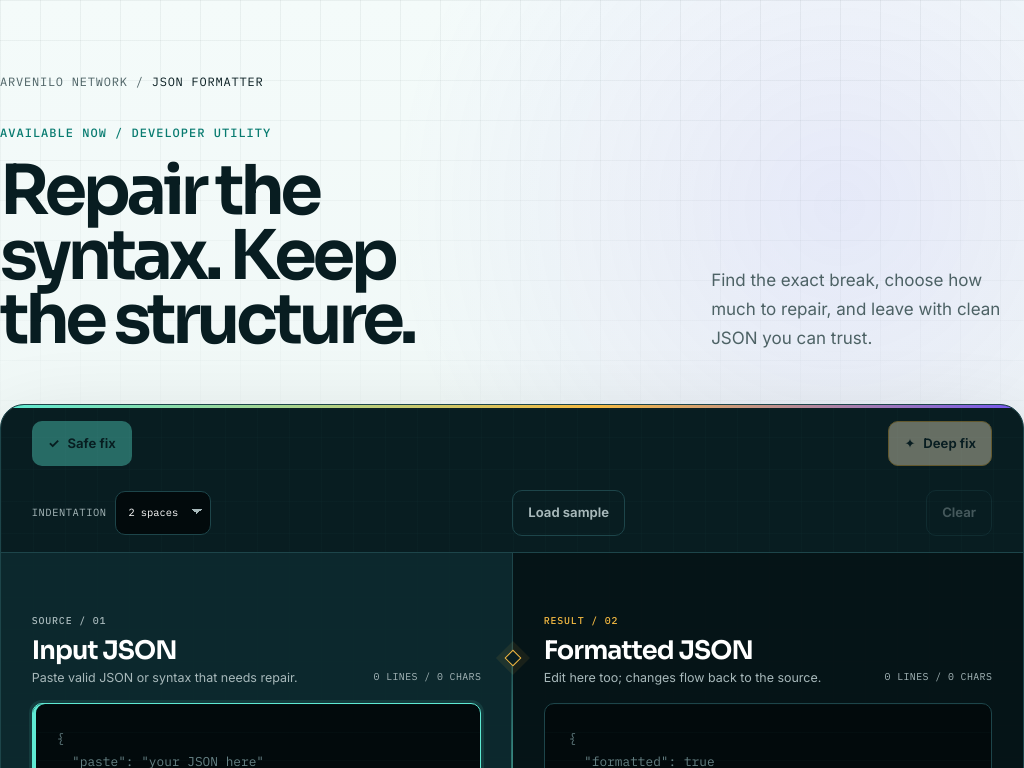
Test: JsonFormatterPage › loads the sample and clears both editors
This screenshot has width=1024, height=768.
Click the button "Load sample" at (569, 513), box [512,490,625,536]
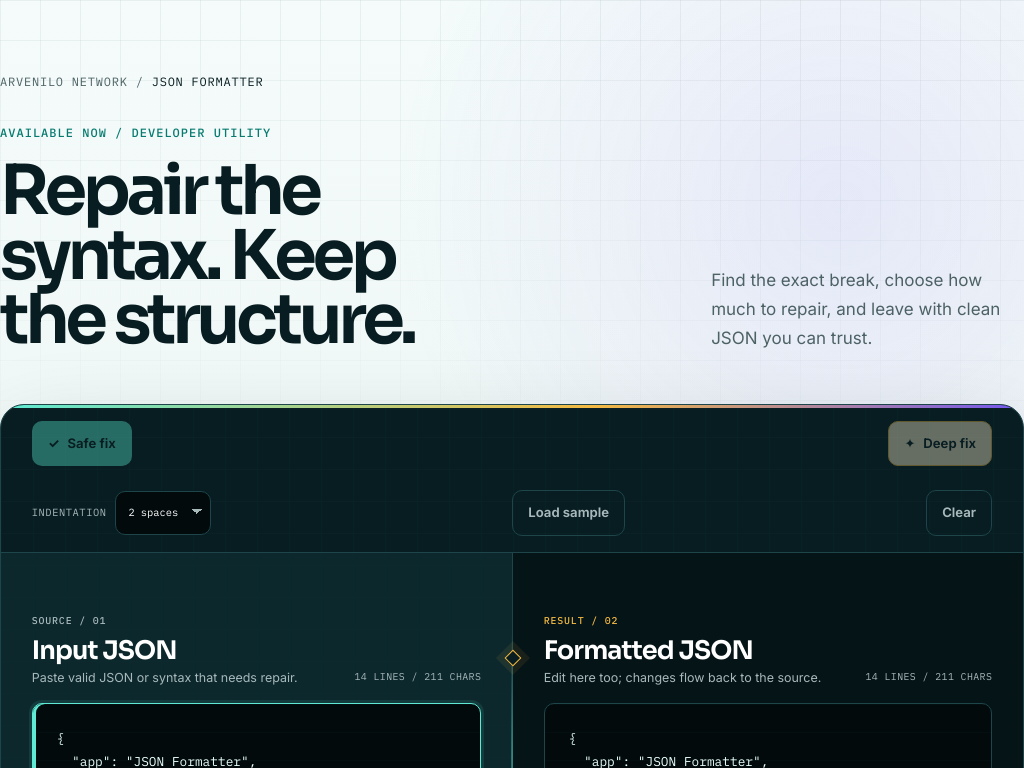
Click the button "Clear" at (959, 513), box [926,490,992,536]
(page scrolled)
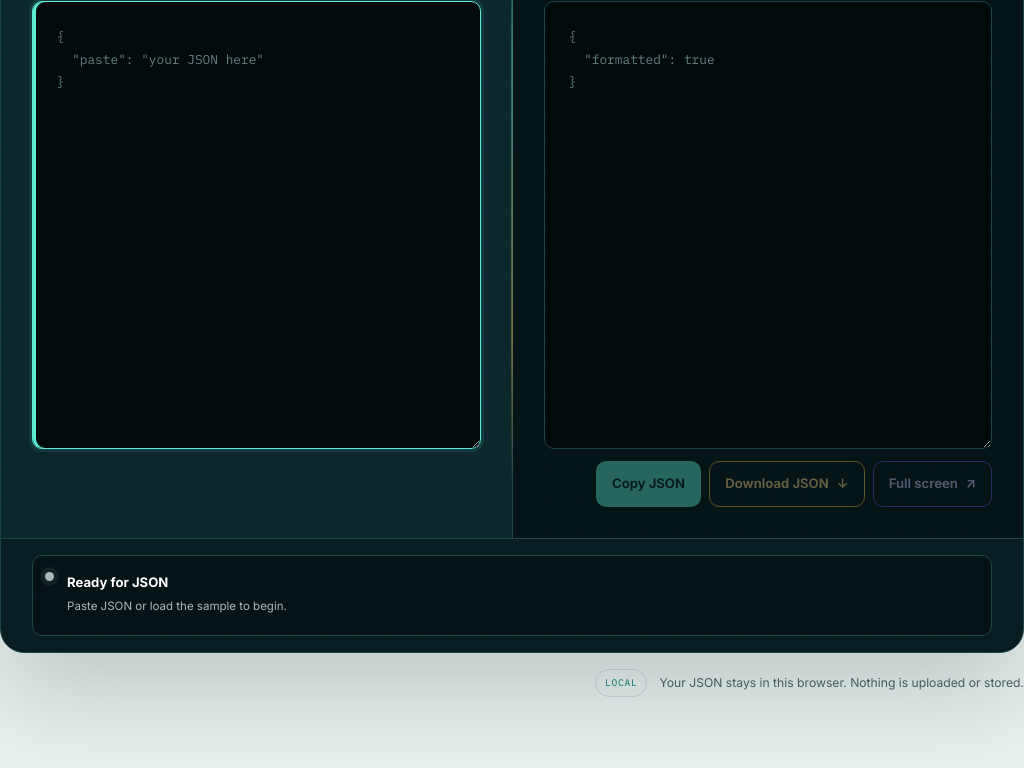
expect the text box named "Input JSON" is empty: met, box [32,1,481,449]
expect the text box named "Formatted JSON" is empty: met, box [544,1,992,449]
expect the text "Ready for JSON" is shown: met, box [67,572,168,593]
